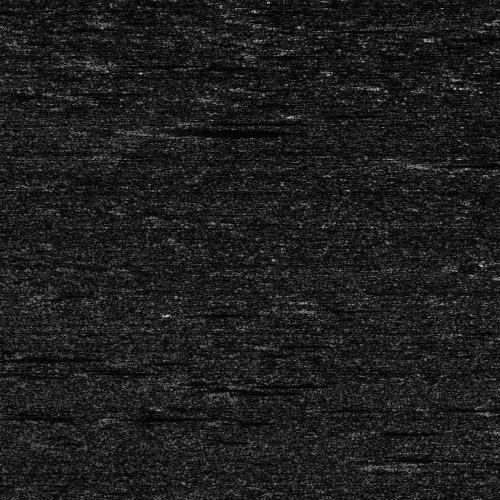rock: (51, 58, 166, 69), (355, 158, 470, 167), (116, 123, 209, 134), (337, 419, 378, 440), (256, 306, 319, 311), (88, 414, 129, 419), (403, 461, 444, 466), (213, 381, 254, 384), (478, 105, 500, 110)
shadow: (109, 58, 238, 69), (163, 123, 292, 134), (358, 419, 418, 440), (413, 158, 500, 167), (288, 306, 407, 311), (109, 414, 213, 419), (0, 350, 47, 359), (234, 381, 320, 384), (424, 461, 455, 466)
